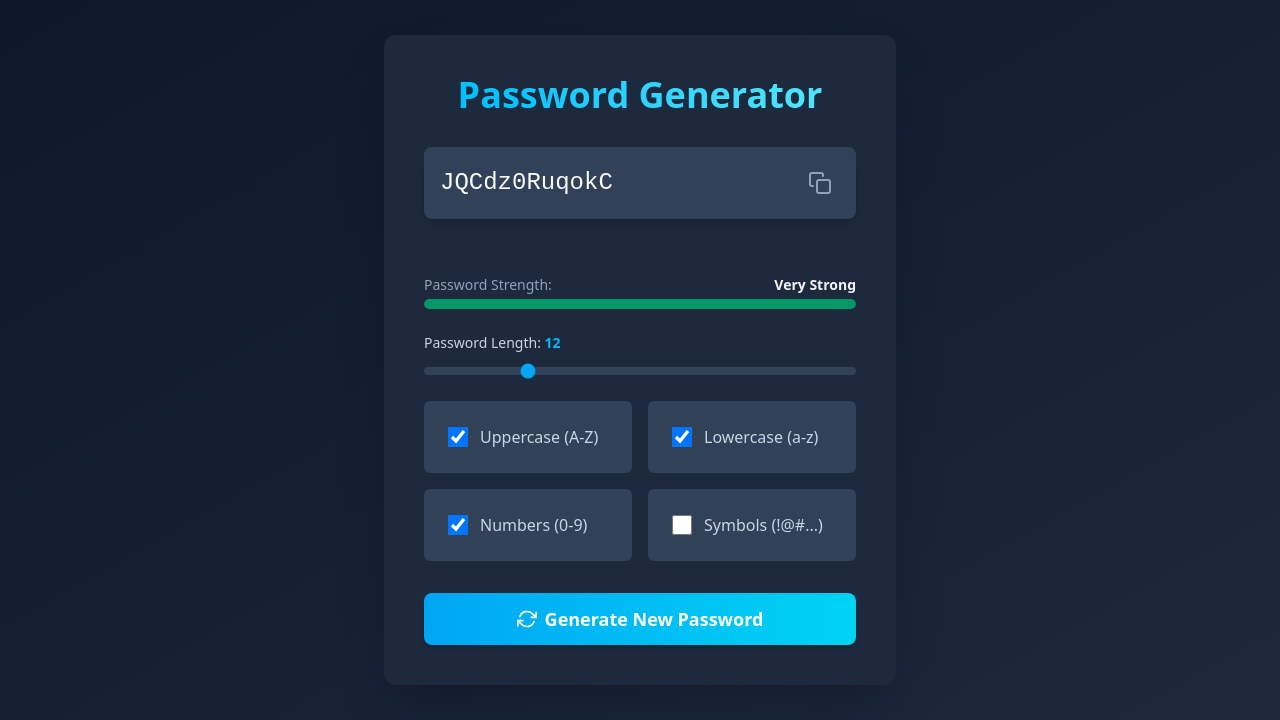
Password Generator E2E Tests › should display an error message if no character types are selected
This screenshot has width=1280, height=720.
Uncheck the checkbox with id "uppercase".
click(458, 437)  # box [448,427,468,447]
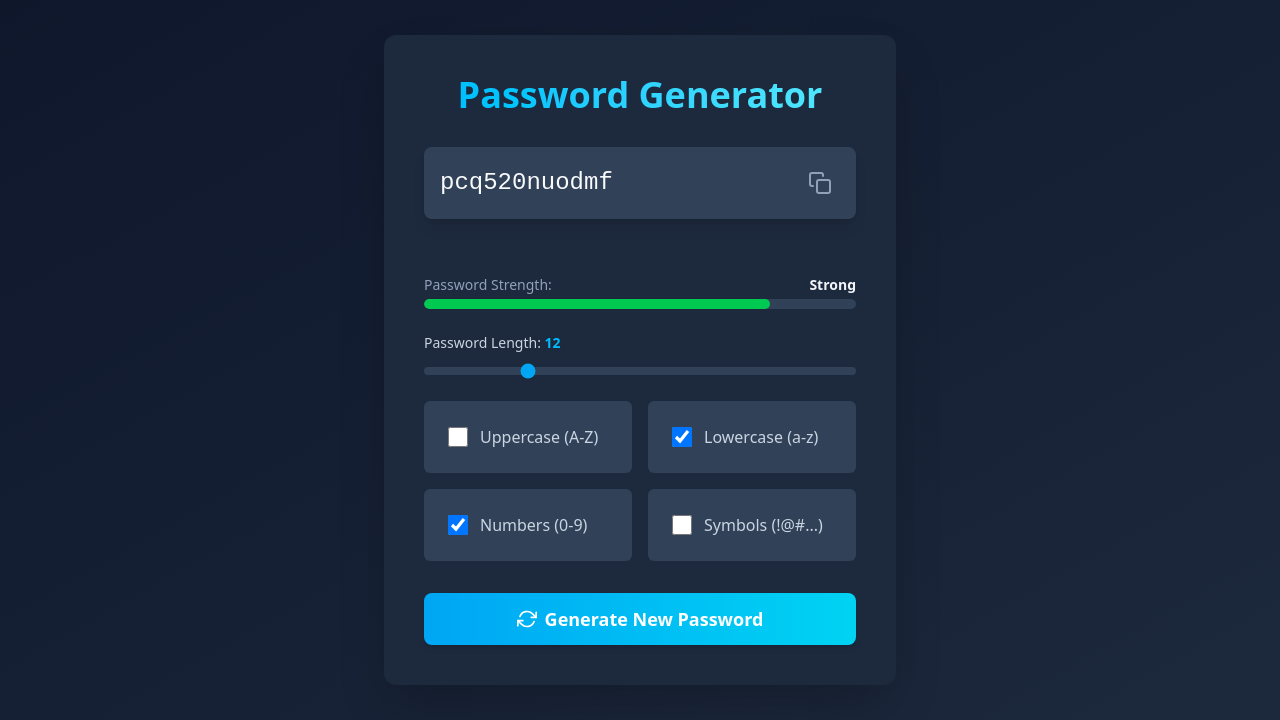
Uncheck the checkbox with id "lowercase".
click(682, 437)  # box [672,427,692,447]
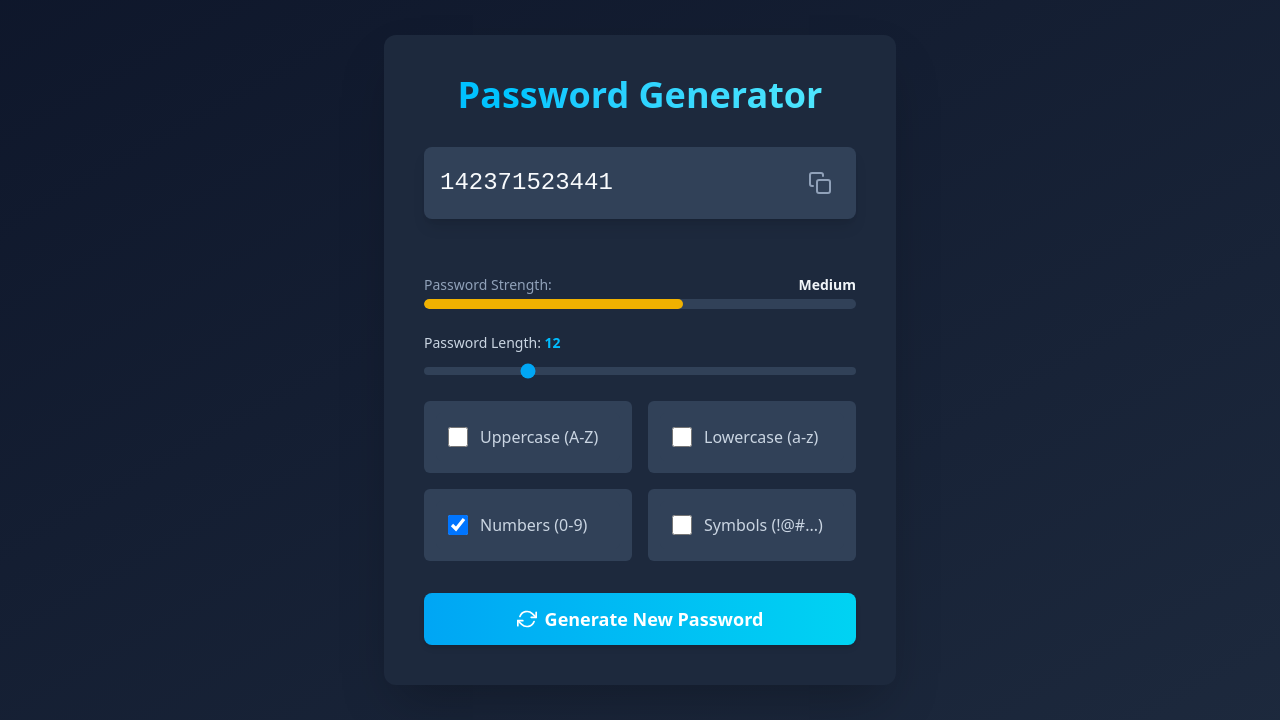
Uncheck the checkbox with id "numbers".
click(458, 525)  # box [448,515,468,535]
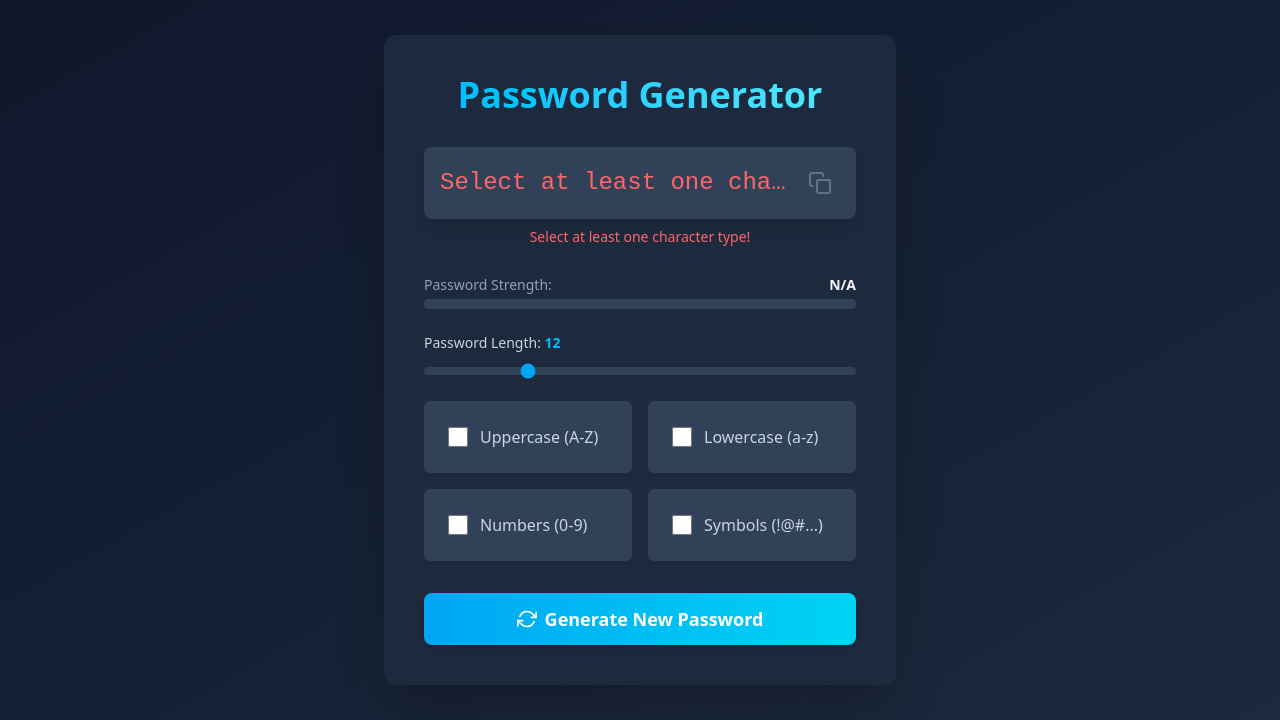
Check: the text "Select at least one character type!" is shown, box [530,227,750,246]
